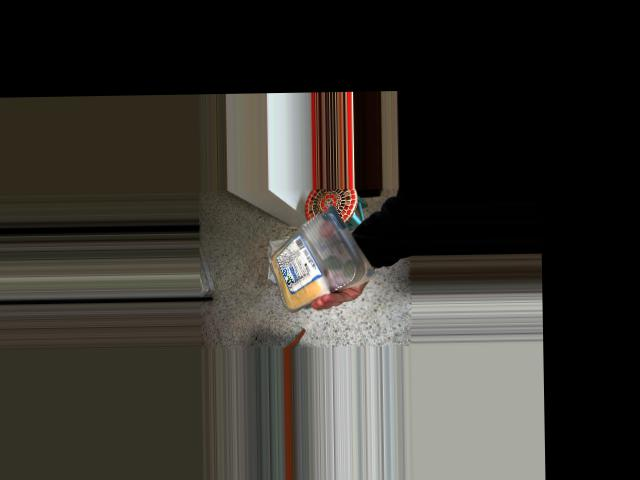cheese: (259, 204, 367, 298)
